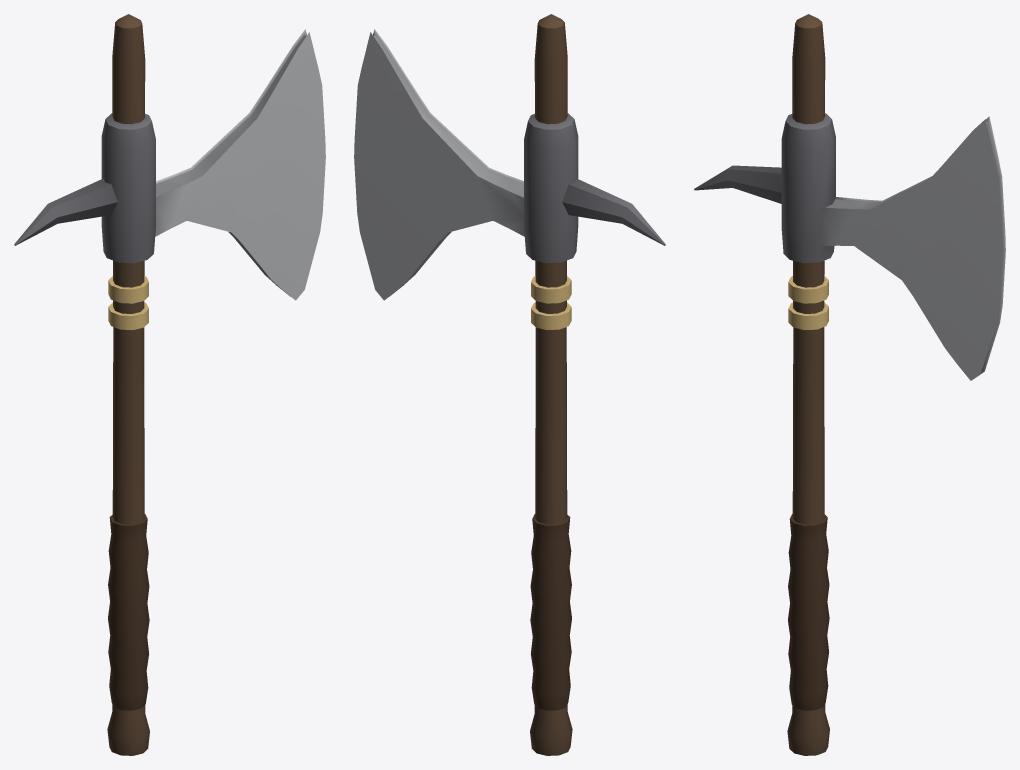
The model's file is axe.glb.
3 views of the same model, side by side, from view 1: azimuth 30°, elevation 25°; view 2: azimuth 150°, elevation 25°; view 3: azimuth 330°, elevation 25° (orthographic).
Visible parts, largest first — view 1: axe; view 2: axe; view 3: axe.
Part boxes in pixels (x1,y1,x2,y2): axe: (14,14,325,755); axe: (354,14,665,755); axe: (694,14,1005,755).
Bounding box in the file's own units: 0.3671 × 0.83 × 0.0533.
